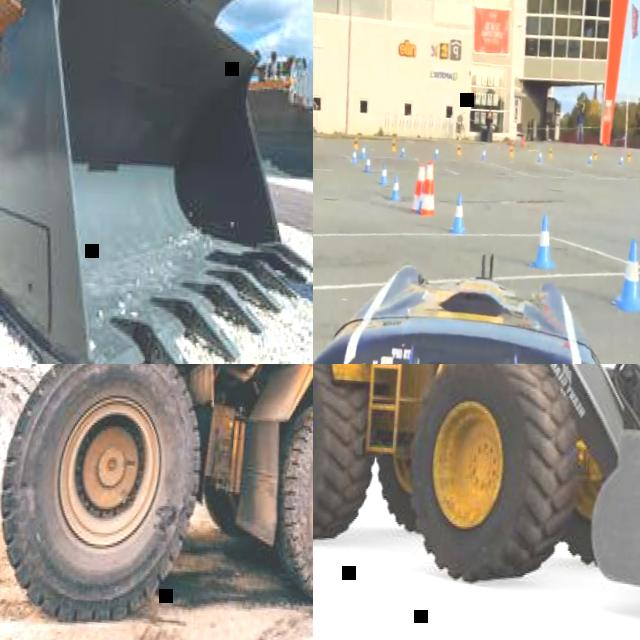Safety Cone: (612, 235, 640, 311), (530, 211, 558, 270), (419, 162, 438, 218), (448, 192, 468, 236), (410, 162, 426, 216), (413, 180, 427, 216), (390, 172, 402, 202), (378, 160, 390, 187), (363, 151, 373, 174), (359, 144, 367, 160), (350, 148, 357, 164), (479, 147, 486, 162), (352, 134, 359, 148), (399, 144, 405, 159), (390, 138, 396, 152), (455, 142, 461, 156), (537, 150, 543, 163), (547, 148, 553, 160), (626, 151, 631, 164), (434, 147, 439, 159), (508, 145, 513, 157), (592, 149, 597, 160), (618, 154, 623, 164), (588, 152, 592, 164)
vehicle: (0, 0, 313, 364), (0, 364, 313, 640), (313, 364, 640, 625), (313, 237, 640, 364)
